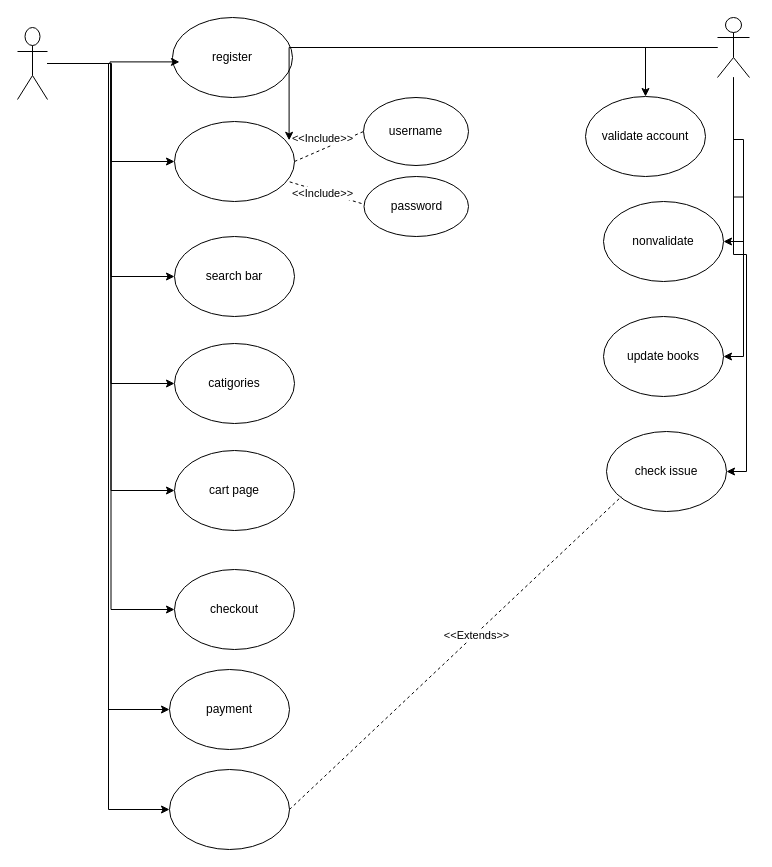
This 772x867 diagram has some shape labels left out. The box of each missing label's shape, as (x1, y1, x2, y2) in pixels:
Admin: (716, 16, 750, 78)
log in: (174, 120, 294, 202)
report issue: (168, 768, 290, 850)
user: (16, 26, 48, 100)
